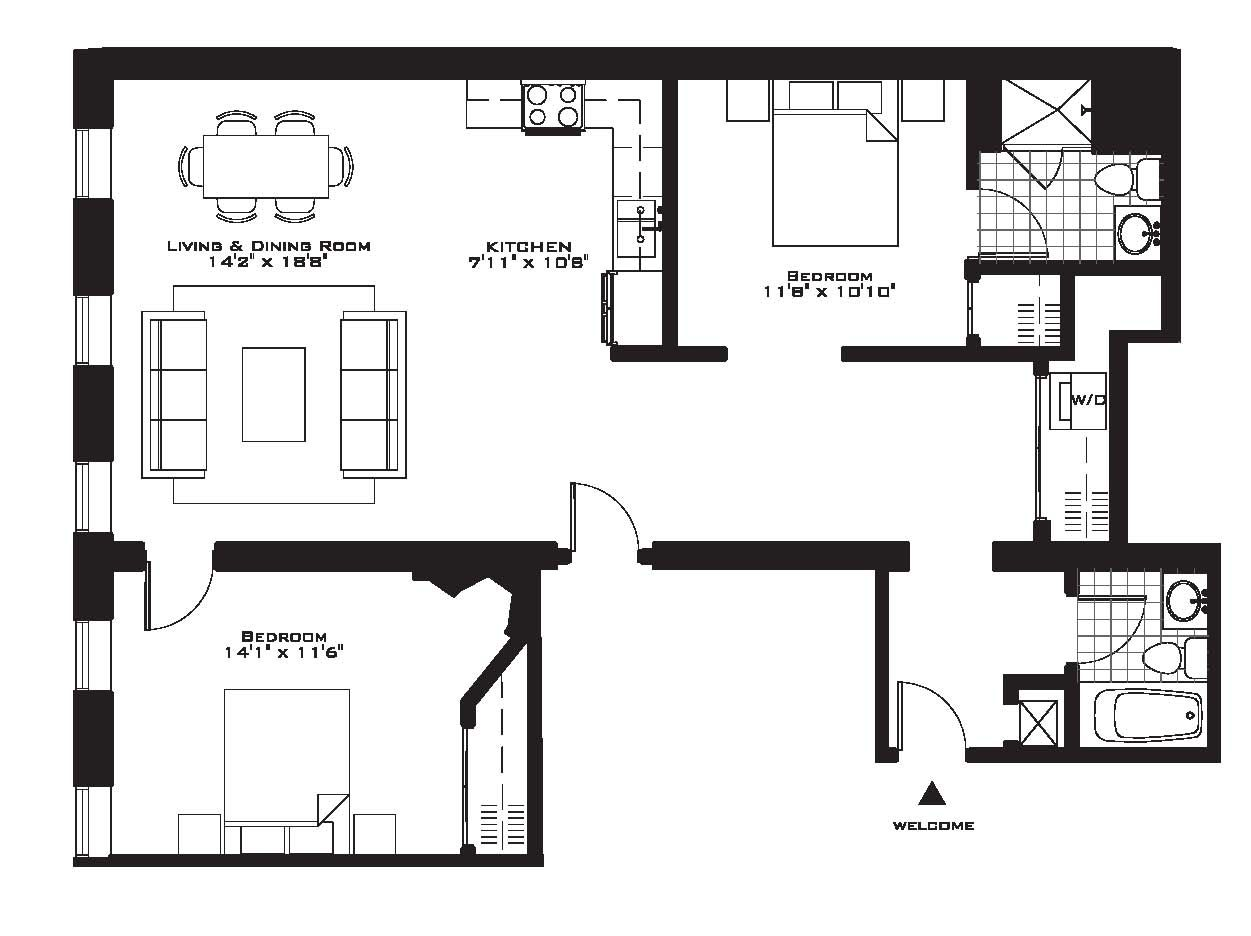door: (558, 464, 643, 535), (137, 576, 215, 643), (893, 676, 971, 736)
window: (73, 787, 91, 857), (71, 129, 90, 194), (73, 619, 90, 687), (74, 295, 90, 364), (74, 462, 88, 529)
